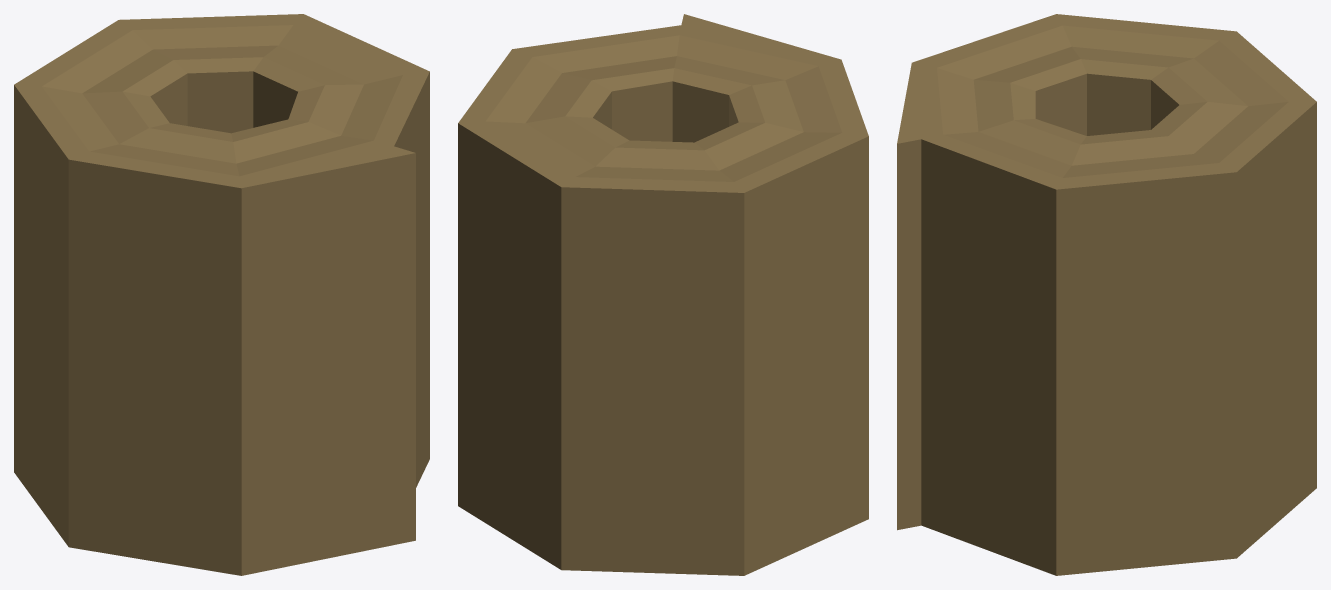
File: LP_PostApoc_Roll.fbx
3 views of the same model, side by side, from view 1: azimuth 30°, elevation 25°; view 2: azimuth 150°, elevation 25°; view 3: azimuth 270°, elevation 25° (orthographic).
Parts seen in each view (by area): view 1: Roll; view 2: Roll; view 3: Roll.
Part boxes in pixels (x1,y1,x2,y2): Roll: (14,14,429,575); Roll: (458,14,868,575); Roll: (897,14,1316,575).
Size of the model in its own units: 67.75 by 69.49 by 68.46.
